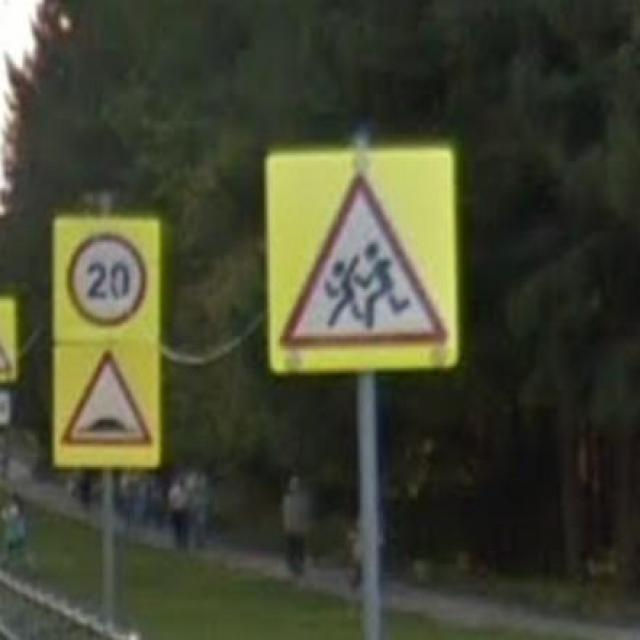Dzieci: (277, 166, 453, 353)
Ograniczenie predkosci do 20: (65, 230, 148, 331)
